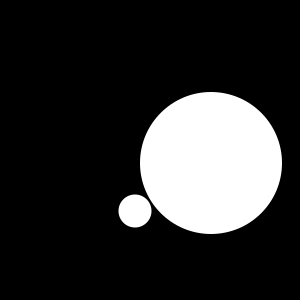rectangle: (140, 92, 282, 234), (118, 194, 152, 228)
